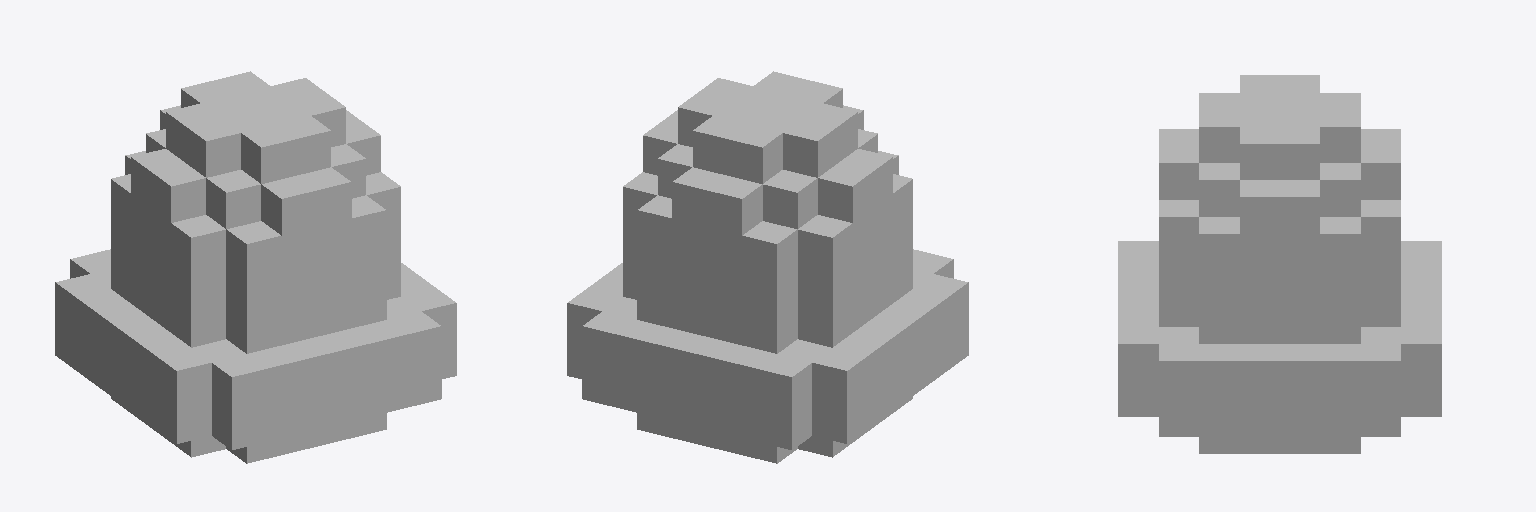
Rendered from cactus.obj.
3 renders of one model, left to right at view 1: azimuth 30°, elevation 25°; view 2: azimuth 150°, elevation 25°; view 3: azimuth 270°, elevation 25°, orthographic.
Bounding box in the file's own units: 8 × 8 × 8.